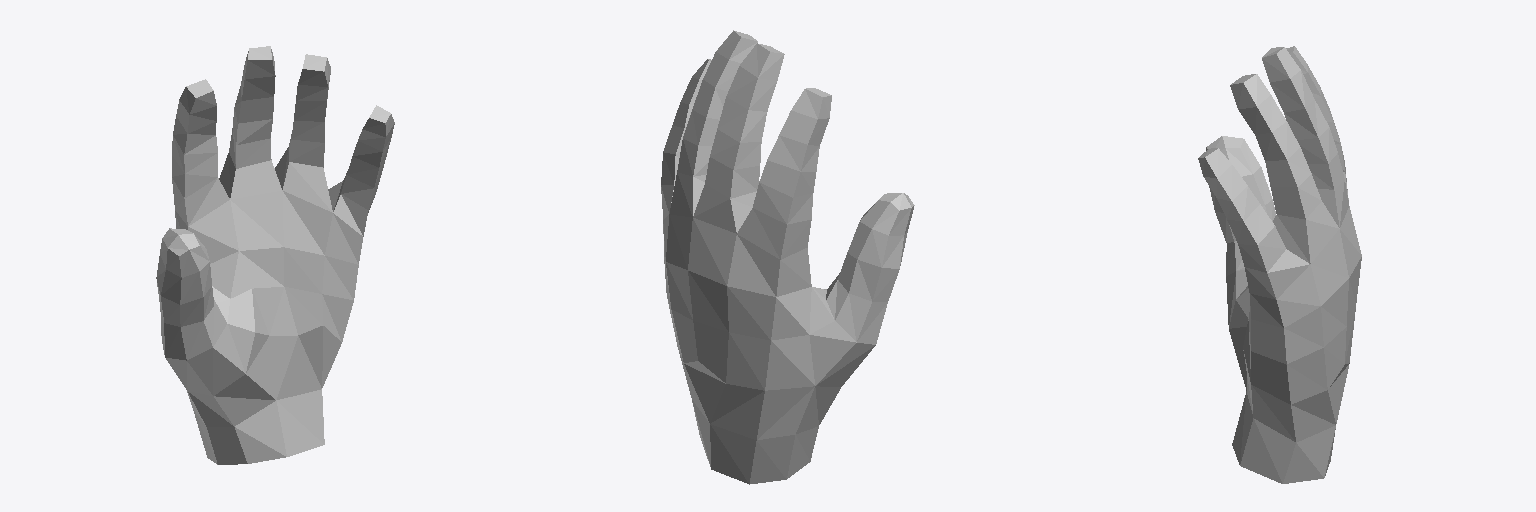
Rendered from csuklo.obj.
3 views of the same model, side by side, from view 1: azimuth 30°, elevation 25°; view 2: azimuth 150°, elevation 25°; view 3: azimuth 270°, elevation 25° (orthographic).
Parts seen in each view (by area): view 1: Mesh; view 2: Mesh; view 3: Mesh.
Part boxes in pixels (left/top/right/bottom): Mesh: left=156, top=46, right=394, bottom=464; Mesh: left=661, top=30, right=914, bottom=484; Mesh: left=1198, top=46, right=1361, bottom=483.
Size of the model in its own units: 0.5549 by 0.9516 by 0.3396.